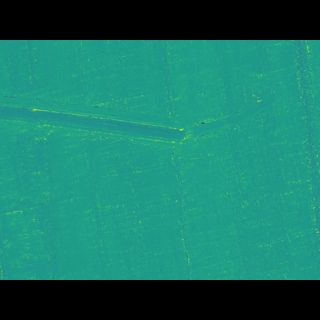Loch: (0, 104, 290, 155)
